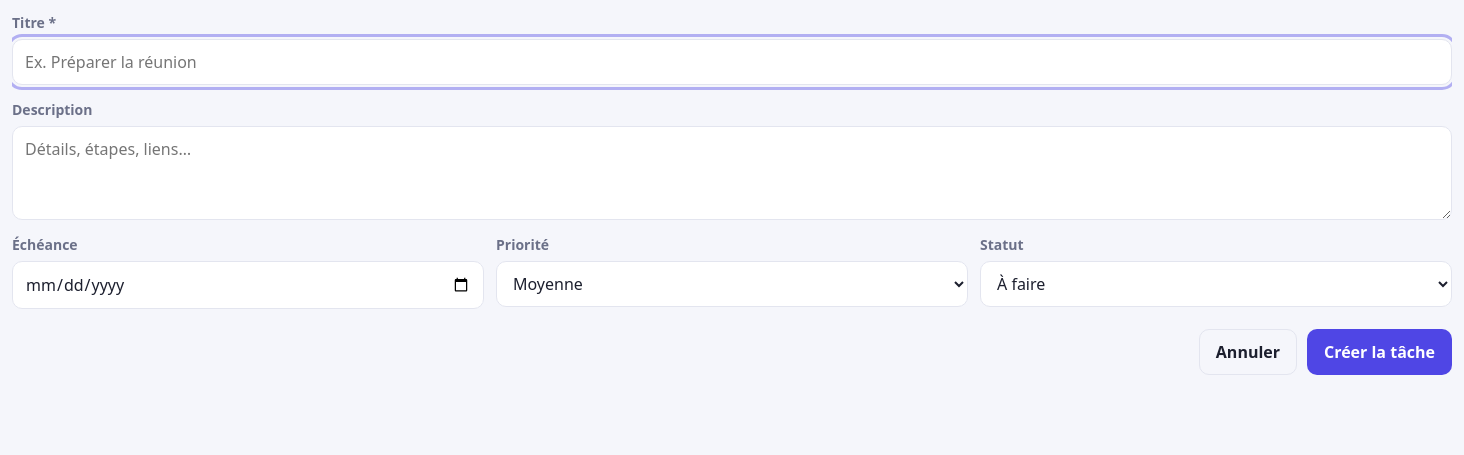
Test: TaskForm › refuse un titre vide
The image size is (1464, 455).
Click the button "Créer la tâche" at x=1380, y=352, box x1=1307 y1=329 x2=1452 y2=375
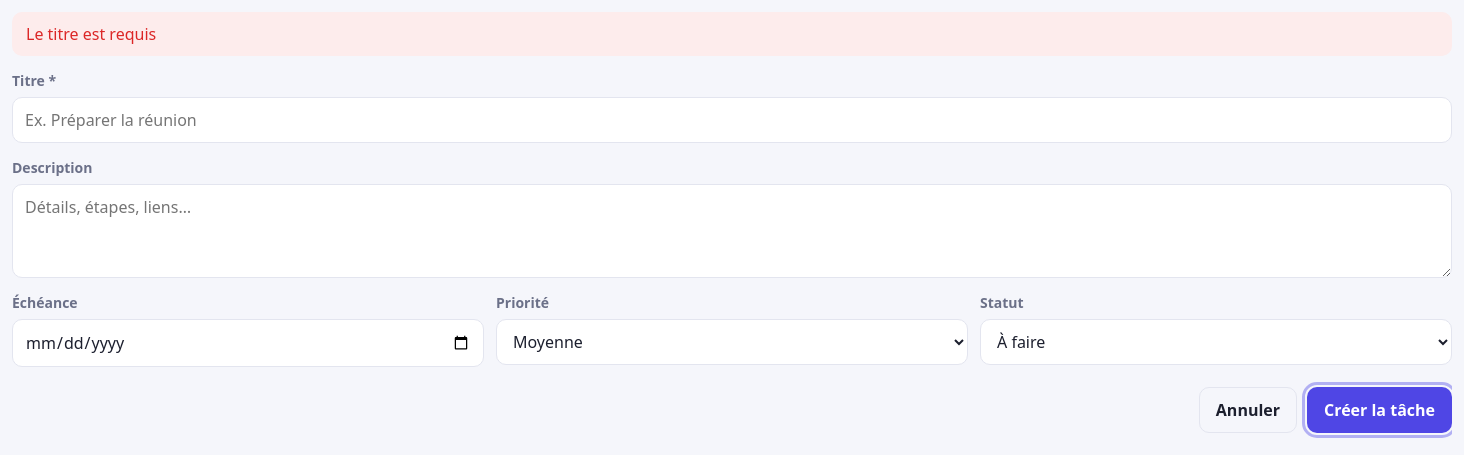
Result: the message reads "Le titre est requis" at x1=26 y1=23 x2=156 y2=45
